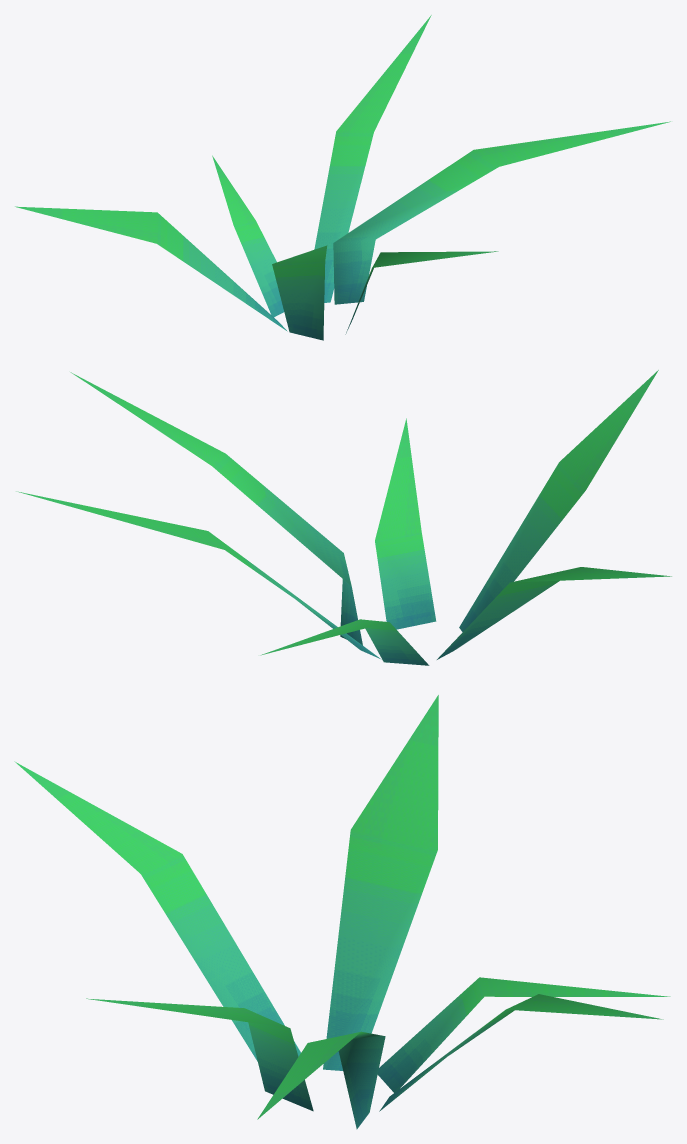
The model's file is GrassAsset3.fbx.
3 renders of one model, top to bottom at view 1: azimuth 30°, elevation 25°; view 2: azimuth 150°, elevation 25°; view 3: azimuth 270°, elevation 25°, orthographic. The views are drawn at different scales.
Parts seen in each view (by area): view 1: PlanterShort.013; view 2: PlanterShort.013; view 3: PlanterShort.013.
Boxes of the visible parts, box(x1,y1,x2,y2) form: PlanterShort.013: box(15, 15, 670, 340); PlanterShort.013: box(16, 370, 671, 665); PlanterShort.013: box(14, 695, 670, 1129).
Size of the model in its own units: 208 by 61.62 by 142.
